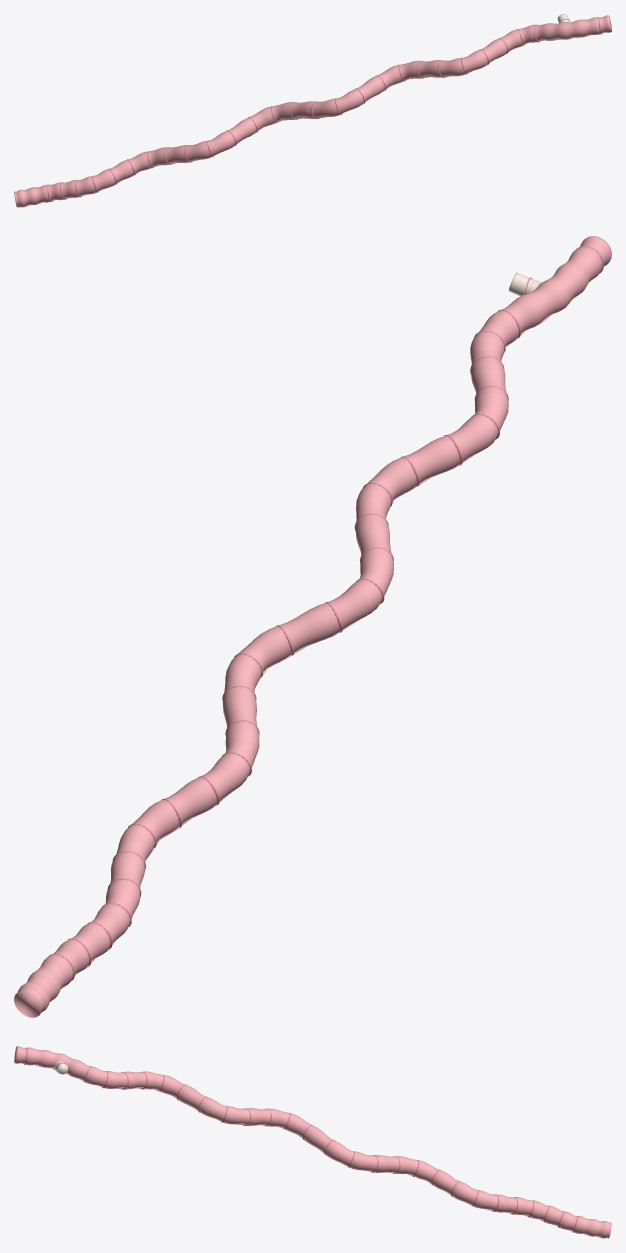
Rendered from stage_esophagus.glb.
3 views of the same model, one above another, from view 1: azimuth 90°, elevation 25°; view 2: azimuth 150°, elevation 25°; view 3: azimuth 270°, elevation 25° (orthographic). The views are drawn at different scales.
Visible parts, largest first — view 1: Esophagus, NC_MuscleBands, NC_Folds; view 2: Esophagus, NC_MuscleBands; view 3: Esophagus, NC_MuscleBands, NC_Folds.
Part boxes in pixels (x1,y1,x2,y2): Esophagus: (14, 14, 611, 207); NC_MuscleBands: (44, 17, 601, 202); NC_Folds: (19, 32, 610, 207); Esophagus: (14, 236, 611, 1017); NC_MuscleBands: (44, 246, 603, 985); Esophagus: (14, 1046, 611, 1238); NC_MuscleBands: (24, 1047, 581, 1233); NC_Folds: (16, 1063, 606, 1238).
Size of the model in its own units: 36.28 by 141 by 400.
